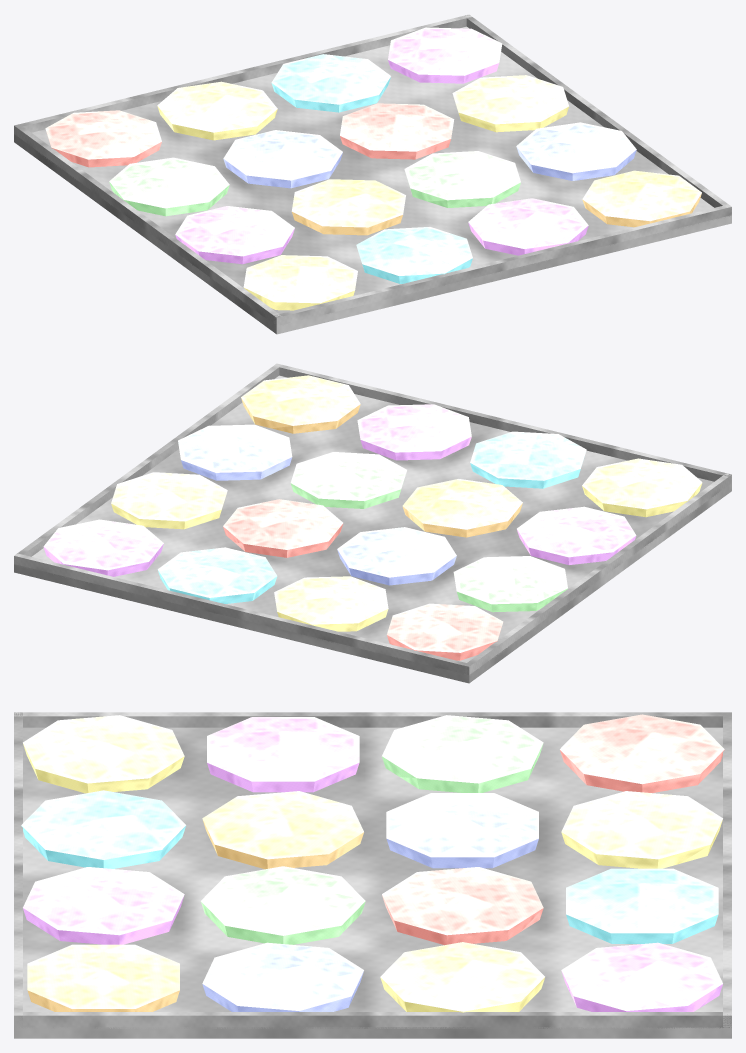
The model's file is architecture-crystal-foundation-8m.glb.
The picture shows the model from 3 angles, top to bottom: view 1: azimuth 30°, elevation 25°; view 2: azimuth 150°, elevation 25°; view 3: azimuth 270°, elevation 25°; orthographic projection. The views are drawn at different scales.
Visible parts, largest first — view 1: shadow-bed, edge-north, facet-3-2, facet-1-0, facet-2-0, facet-1-1, facet-3-0, facet-2-1, facet-1-2, facet-3-1, facet-2-2, facet-0-1 (+9 smaller); view 2: shadow-bed, edge-south, facet-2-1, facet-1-2, facet-3-3, facet-1-1, facet-3-2, facet-2-3, facet-3-1, facet-1-3, facet-2-2, facet-0-3 (+9 smaller); view 3: shadow-bed, edge-east, facet-1-3, facet-0-0, facet-2-2, facet-1-0, facet-2-3, facet-0-1, facet-2-0, facet-0-2, facet-2-1, facet-1-1 (+9 smaller).
Part boxes in pixels (x1,y1,x2,y2): shadow-bed: [14, 26, 731, 334]; edge-north: [274, 204, 731, 326]; facet-3-2: [516, 122, 636, 180]; facet-1-0: [157, 81, 277, 140]; facet-2-0: [271, 54, 390, 112]; facet-1-1: [223, 130, 342, 188]; facet-3-0: [388, 27, 502, 83]; facet-2-1: [340, 103, 454, 159]; facet-1-2: [291, 179, 405, 235]; facet-3-1: [452, 75, 569, 132]; facet-2-2: [404, 151, 520, 207]; facet-0-1: [109, 157, 229, 216]; shadow-bed: [14, 375, 731, 683]; edge-south: [14, 553, 471, 675]; facet-2-1: [223, 499, 343, 557]; facet-1-2: [402, 479, 522, 537]; facet-3-3: [241, 375, 360, 433]; facet-1-1: [337, 527, 456, 585]; facet-3-2: [178, 424, 292, 480]; facet-2-3: [357, 404, 471, 460]; facet-3-1: [111, 472, 227, 529]; facet-1-3: [470, 431, 586, 488]; facet-2-2: [290, 452, 406, 508]; facet-0-3: [582, 458, 702, 517]; shadow-bed: [14, 727, 731, 1038]; edge-east: [14, 1012, 731, 1028]; facet-1-3: [21, 790, 186, 868]; facet-0-0: [560, 714, 724, 792]; facet-2-2: [200, 866, 365, 944]; facet-1-0: [561, 791, 722, 868]; facet-2-3: [23, 867, 184, 944]; facet-0-1: [382, 715, 543, 792]; facet-2-0: [566, 868, 718, 943]; facet-0-2: [207, 717, 359, 792]; facet-2-1: [382, 867, 543, 945]; facet-1-1: [386, 793, 538, 868].
Bounding box in the file's own units: 8 × 0.364 × 8.
Materials: 9 (9 with a texture image).
